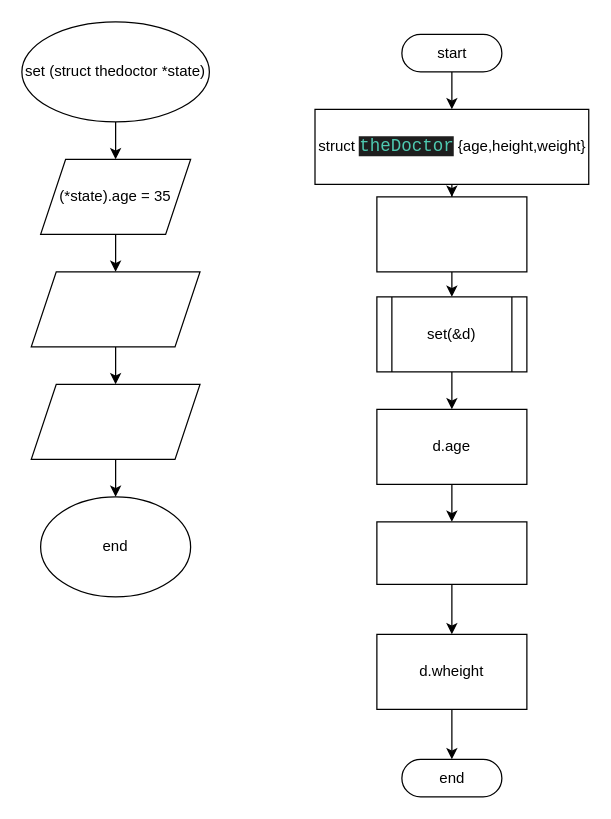
Some shapes in this 611 by 819 pixel diagram are drawn without their labels. The centre of each missing label's shape, as x and y in pixels:
"(*state).height = 178" goes at pixel 115 309.
"(*state).weight = 56" goes at pixel 115 421.
"d.height" goes at pixel 451 552.
"struct thedoctor d" goes at pixel 451 234.
